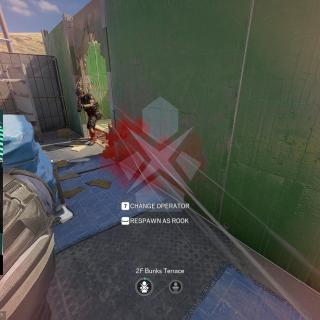Character: (0, 112, 69, 320), (74, 86, 104, 147)
Head: (75, 87, 85, 98)
